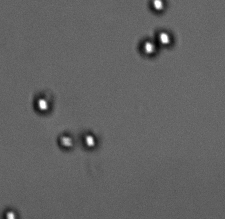Living Cell: (32, 90, 53, 116), (137, 36, 158, 58), (80, 129, 100, 151), (155, 28, 175, 48), (57, 131, 75, 150), (147, 1, 170, 13), (1, 207, 19, 218)
